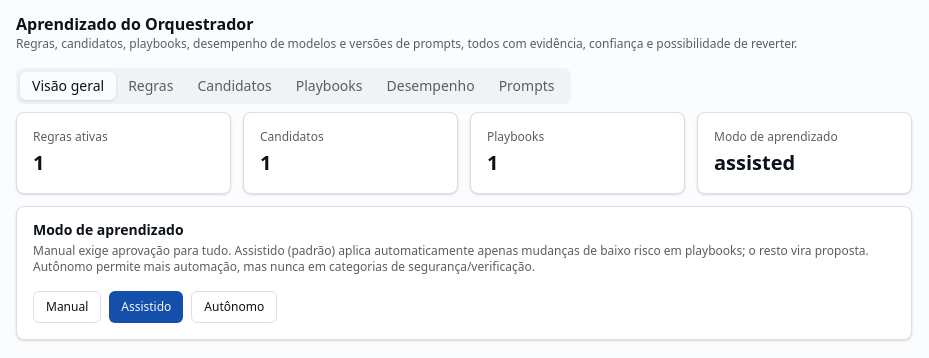
LearningPage › lists playbooks
Click the tab "Playbooks": [329, 86] box [284,72,374,100]
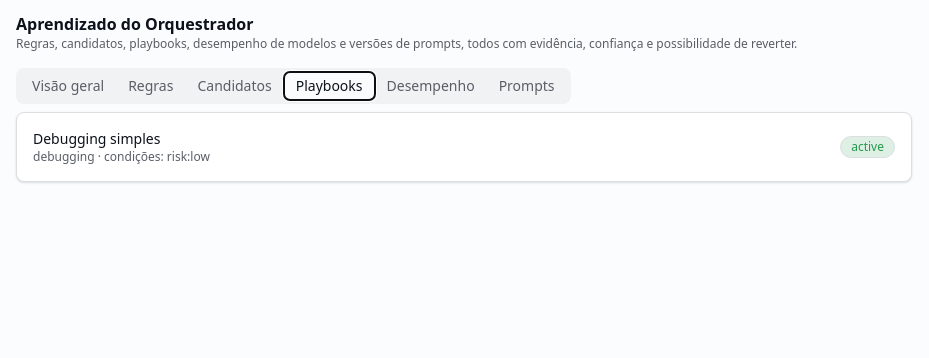
expect the text "Debugging simples" is shown: met, box [33,129,160,148]
